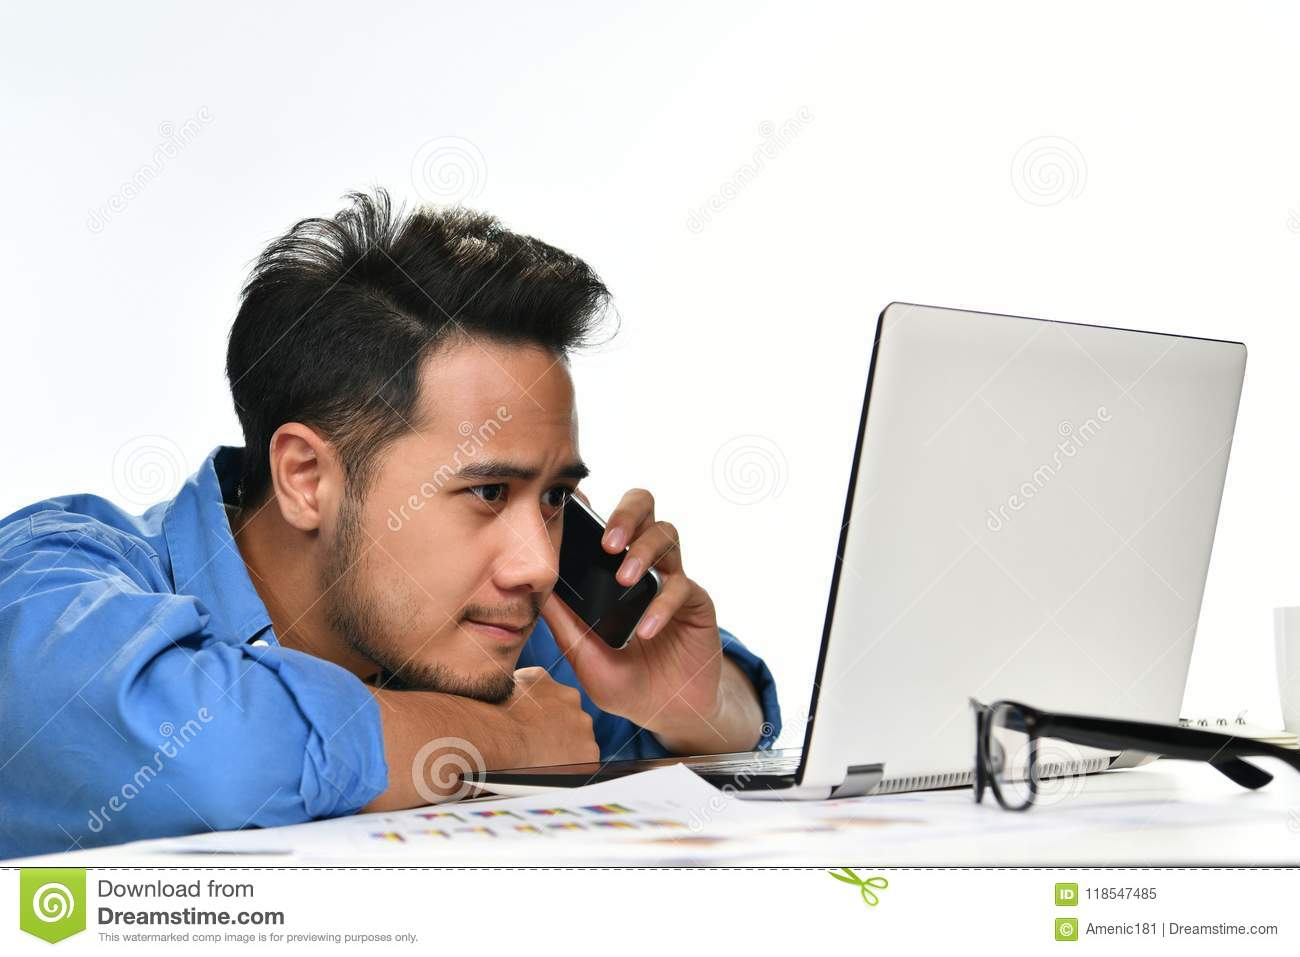phone: (560, 499, 664, 657)
talk: (424, 443, 736, 732)
